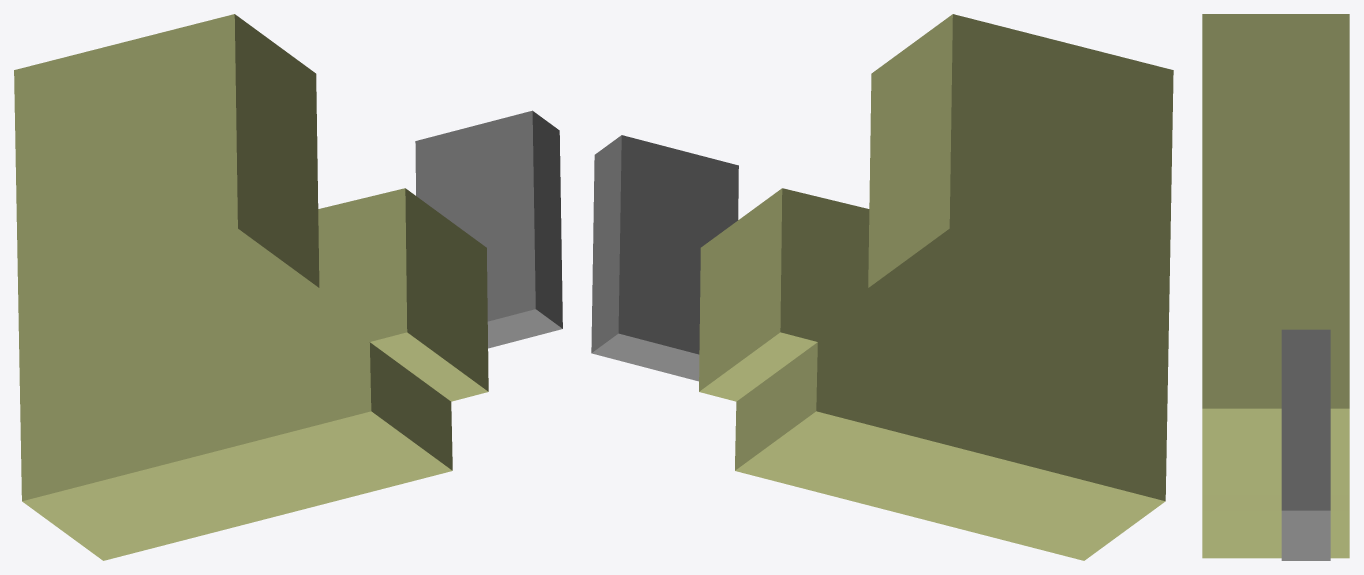
3 views of the same model, side by side, from view 1: azimuth 30°, elevation 25°; view 2: azimuth 150°, elevation 25°; view 3: azimuth 270°, elevation 25° (orthographic). The views are drawn at different scales.
Visible parts, largest first — view 1: 0_3_2_3_1_1_0_0_1; view 2: 0_3_2_3_1_1_0_0_1; view 3: 0_3_2_3_1_1_0_0_1.
Part boxes in pixels (left/top/right/bottom): 0_3_2_3_1_1_0_0_1: left=14, top=14, right=562, bottom=560; 0_3_2_3_1_1_0_0_1: left=591, top=14, right=1173, bottom=560; 0_3_2_3_1_1_0_0_1: left=1202, top=14, right=1349, bottom=560.
Bounding box in the file's own units: 32.61 × 26.54 × 9.
